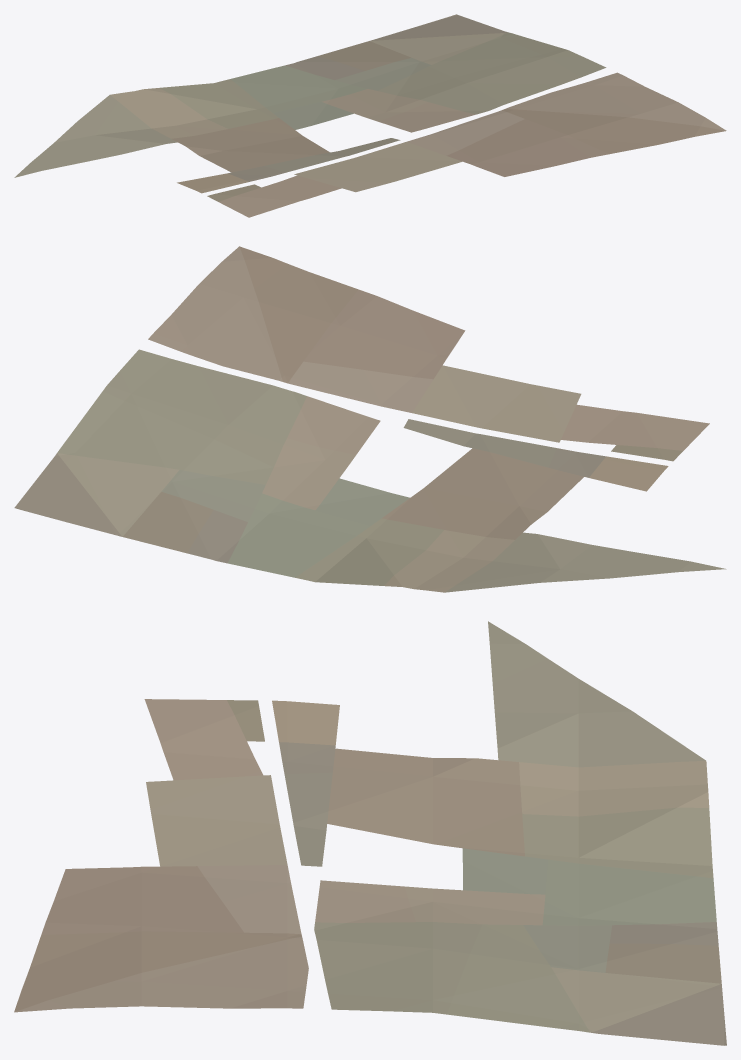
File: farm_-9_0_soil.glb
3 renders of one model, top to bottom at view 1: azimuth 30°, elevation 25°; view 2: azimuth 150°, elevation 25°; view 3: azimuth 270°, elevation 25°, orthographic. The views are drawn at different scales.
Parts seen in each view (by area): view 1: geometry_0; view 2: geometry_0; view 3: geometry_0.
Part boxes in pixels (x1,y1,x2,y2): geometry_0: (14,14,726,217); geometry_0: (14,246,726,592); geometry_0: (14,621,726,1045).
Bounding box in the file's own units: 552 × 45.45 × 391.
